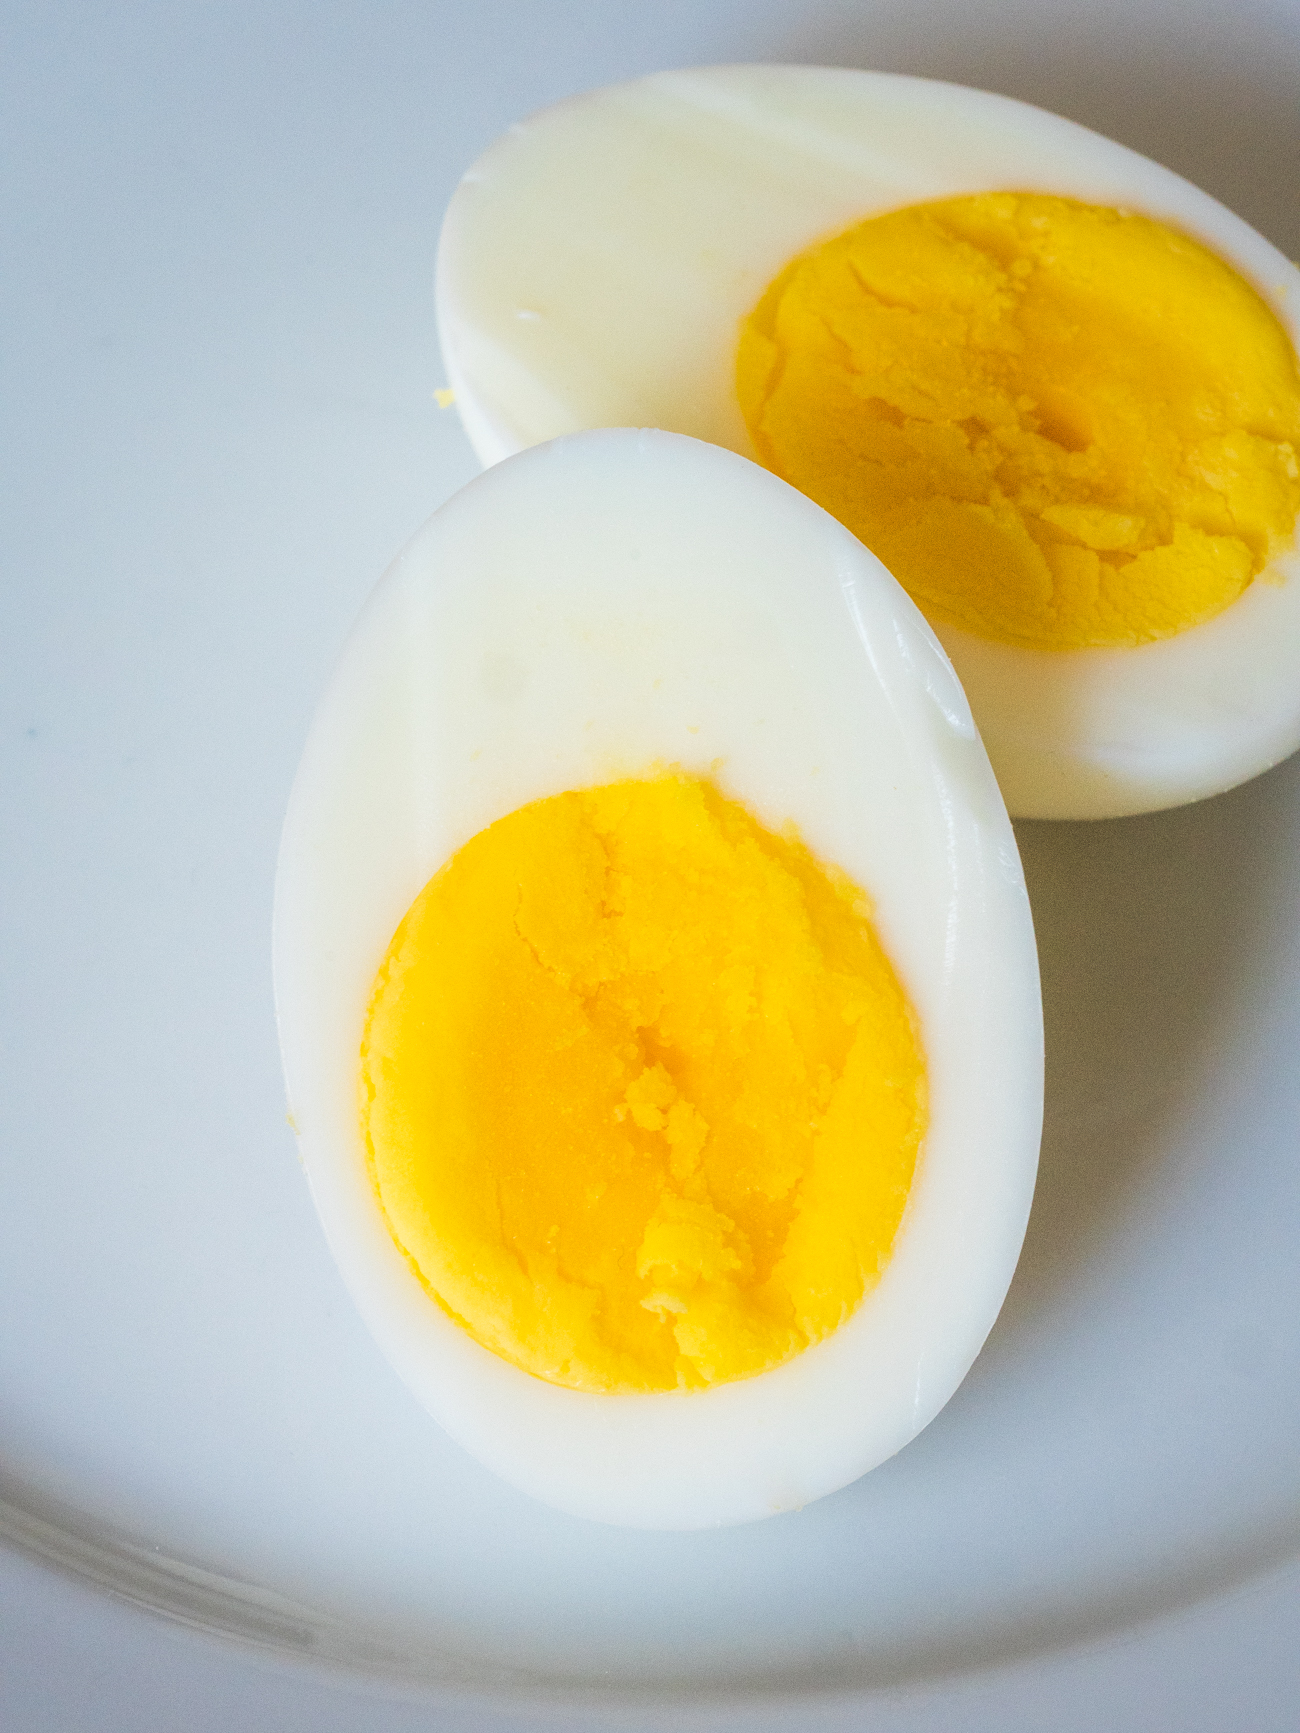egg: (264, 425, 1058, 1551), (344, 46, 1300, 819)
